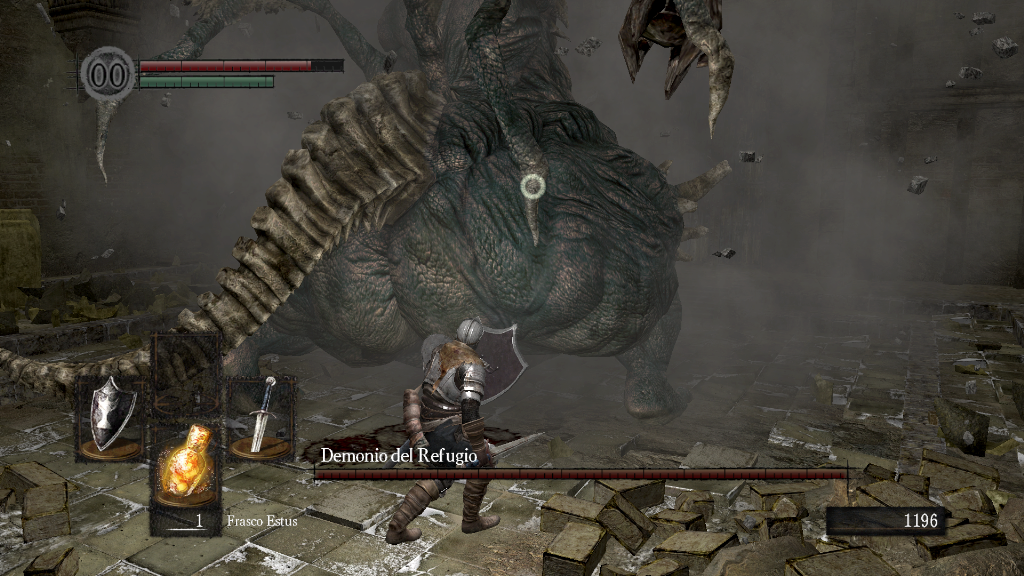asylumDemon: (3, 1, 742, 429)
bossHP: (314, 469, 847, 479)
health: (138, 58, 343, 71)
humanity: (80, 45, 136, 102)
player: (385, 318, 548, 549)
souls: (825, 506, 945, 536)
stamina: (138, 74, 274, 88)
